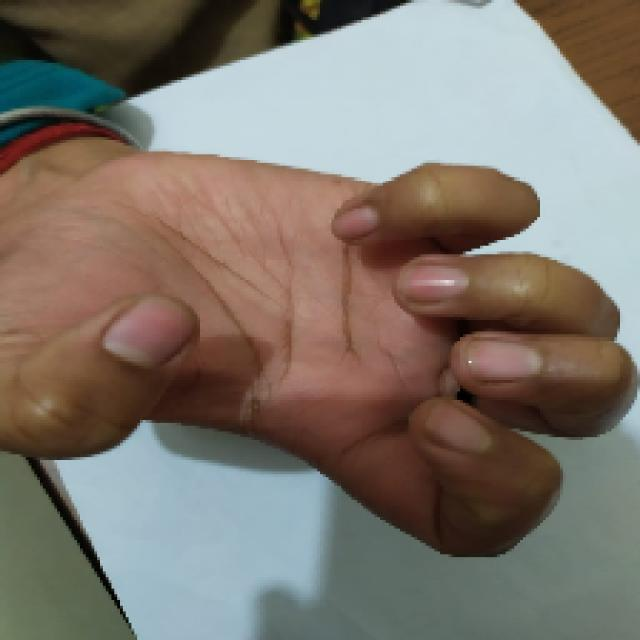Nail: (102, 296, 198, 368), (424, 401, 491, 452), (468, 338, 542, 381), (399, 265, 469, 302), (332, 205, 379, 239)
